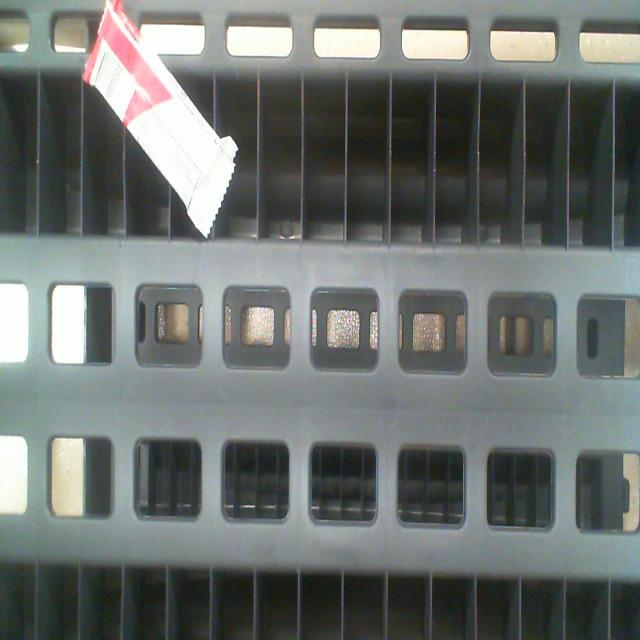snack: (85, 0, 228, 218)
